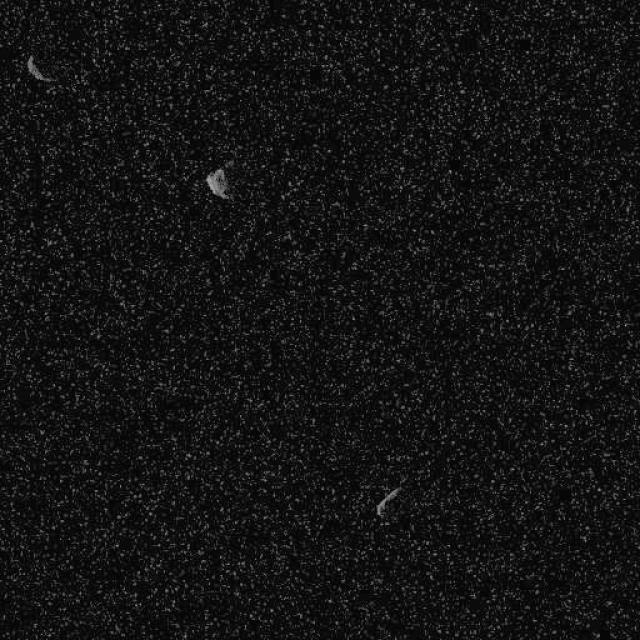D2: (23, 54, 58, 84), (375, 483, 403, 518), (204, 166, 231, 202)
